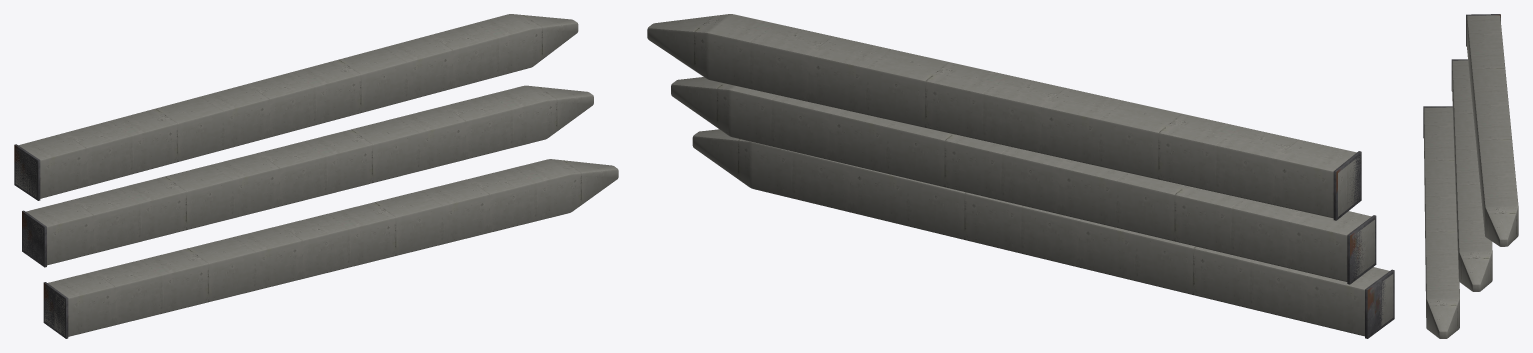
Rendered from FUN-PRE-001_anim.glb.
3 views of the same model, side by side, from view 1: azimuth 30°, elevation 25°; view 2: azimuth 150°, elevation 25°; view 3: azimuth 270°, elevation 25° (orthographic). The views are drawn at different scales.
Visible parts, largest first — view 1: FUN-PRE-001_anim0, FUN-PRE-001_anim1, FUN-PRE-001_anim2; view 2: FUN-PRE-001_anim2, FUN-PRE-001_anim1, FUN-PRE-001_anim0; view 3: FUN-PRE-001_anim2, FUN-PRE-001_anim0, FUN-PRE-001_anim1.
Part boxes in pixels (x1,y1,x2,y2): FUN-PRE-001_anim0: (43,159,618,338); FUN-PRE-001_anim1: (22,85,593,267); FUN-PRE-001_anim2: (14,14,578,200); FUN-PRE-001_anim2: (647,14,1361,220); FUN-PRE-001_anim1: (671,77,1376,284); FUN-PRE-001_anim0: (692,129,1394,338); FUN-PRE-001_anim2: (1466,14,1518,246); FUN-PRE-001_anim0: (1423,106,1459,338); FUN-PRE-001_anim1: (1451,59,1492,291).
Size of the model in its own units: 3.02 by 0.806 by 0.5656.
2 materials, 2 textured.
